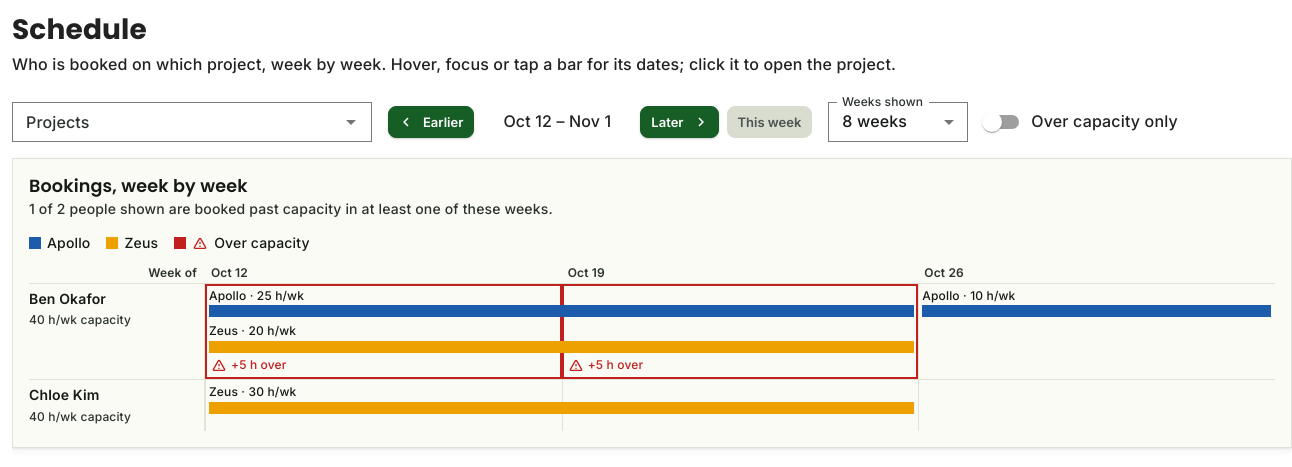
Scenario: SchedulePage › shows project, hours and dates in a tooltip on hover
Hover over the link with aria-label "Ben Okafor, Apollo, 25" at (257, 295), box [209,284,914,319]
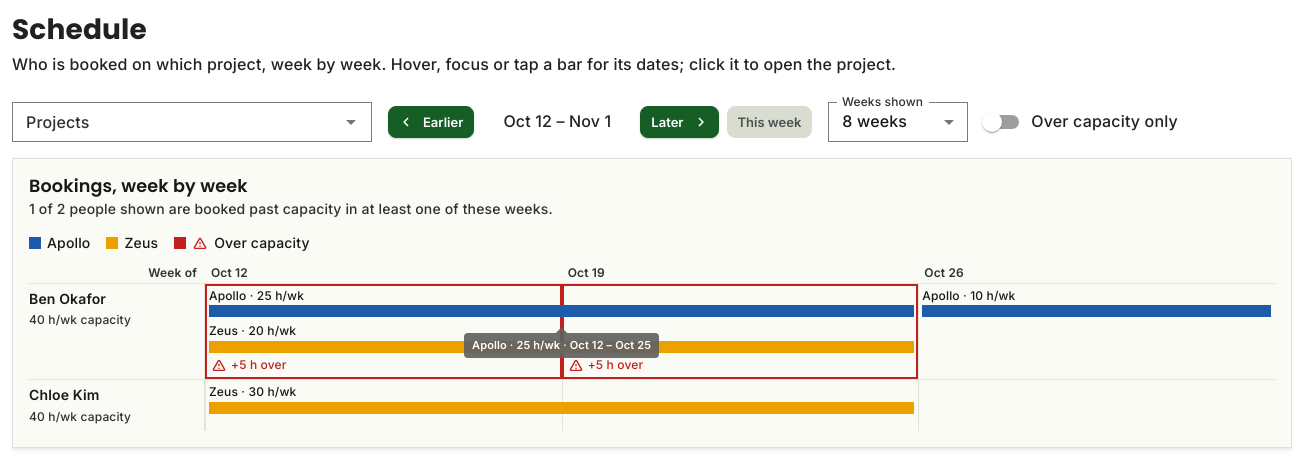
Result: the tooltip reads "Apollo · 25 h/wk · Oct 12 – Oct 25" at [472,338,651,352]
